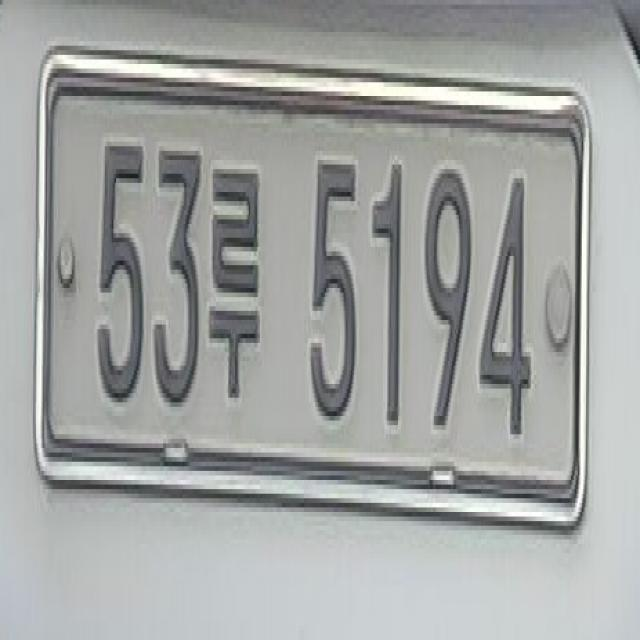1: (370, 155, 408, 448)
3: (149, 133, 210, 425)
4: (480, 165, 542, 466)
5: (294, 119, 360, 430), (95, 114, 154, 416)
9: (423, 151, 484, 457)
license_plate: (32, 55, 589, 567)
lu: (209, 151, 268, 420)
